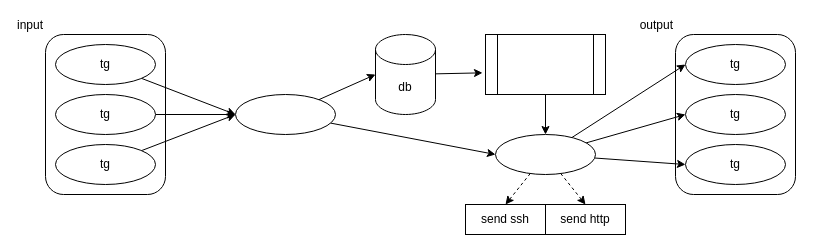
This 813x252 diagram has some shape labels left out. The box of each missing label's shape, as (x1, y1, x2, y2) in pixels:
process_action: (494, 134, 596, 174)
process_input: (234, 94, 336, 134)
scheduler: (484, 34, 606, 94)
